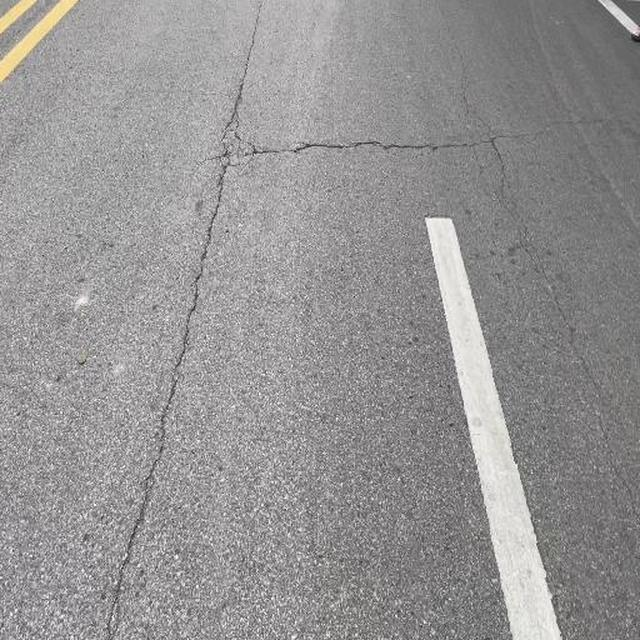Melintang: (235, 122, 544, 169)
Memanjang: (92, 0, 274, 640)
